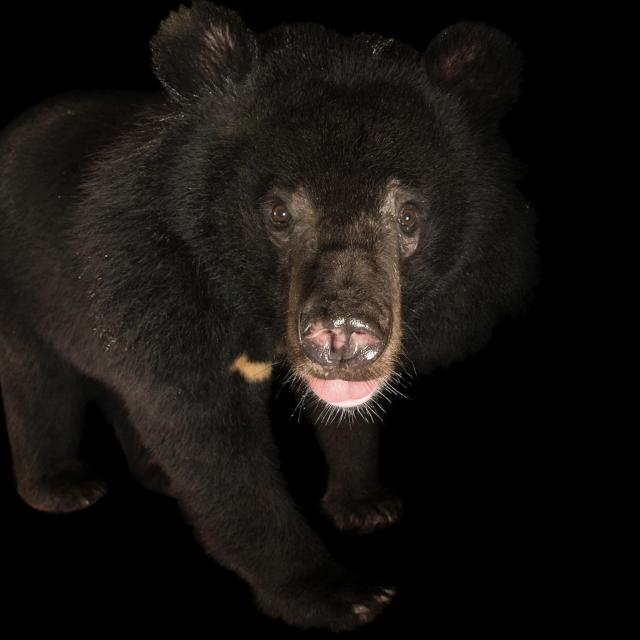bear: (0, 2, 538, 631)
